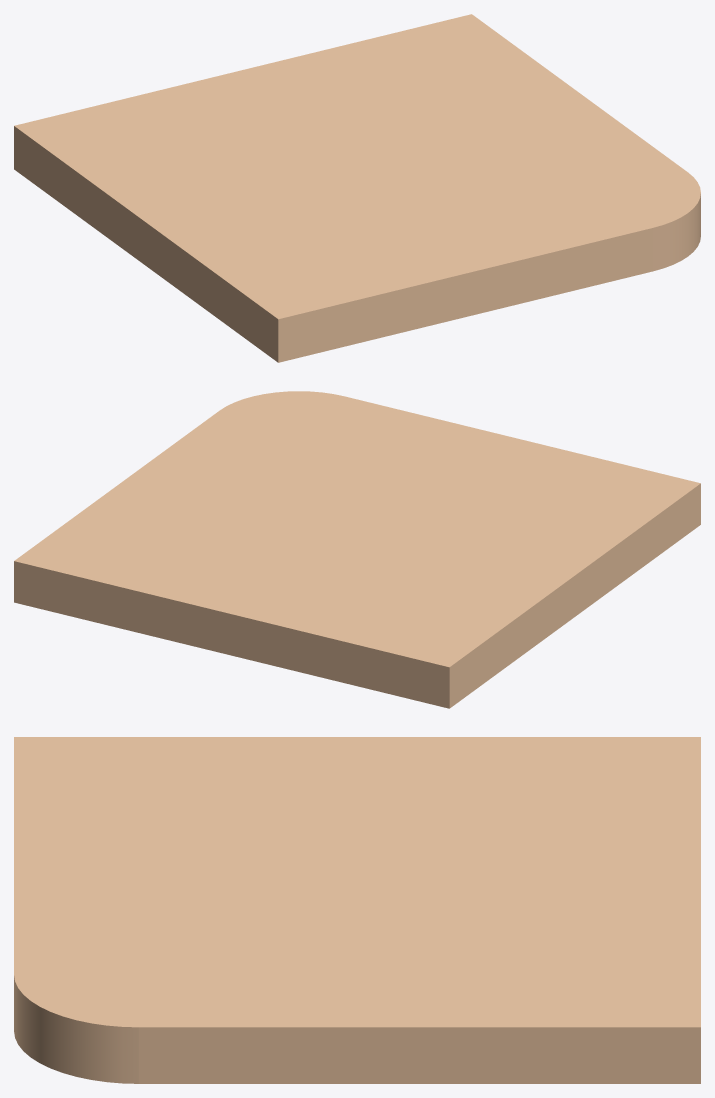
File: floorCornerRound.glb
3 views of the same model, one above another, from view 1: azimuth 30°, elevation 25°; view 2: azimuth 150°, elevation 25°; view 3: azimuth 270°, elevation 25° (orthographic). The views are drawn at different scales.
Visible parts, largest first — view 1: floorCornerRound(Clone); view 2: floorCornerRound(Clone); view 3: floorCornerRound(Clone).
Part boxes in pixels (<box>): floorCornerRound(Clone): <box>14,14,700,362</box>; floorCornerRound(Clone): <box>14,391,700,708</box>; floorCornerRound(Clone): <box>14,737,700,1083</box>.
Bounding box in the file's own units: 1.12 × 0.1015 × 1.12.
1 material, 1 textured.
